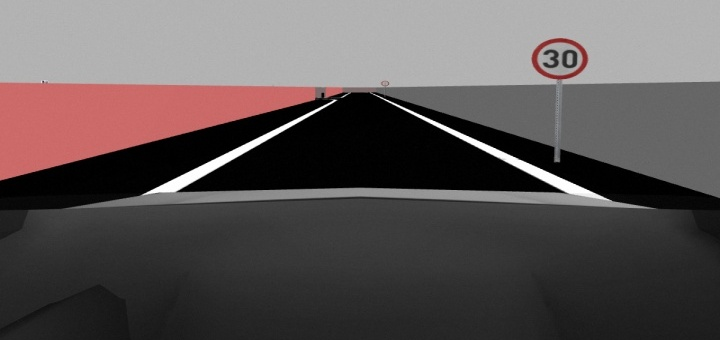hiz_30: (528, 35, 591, 81)
